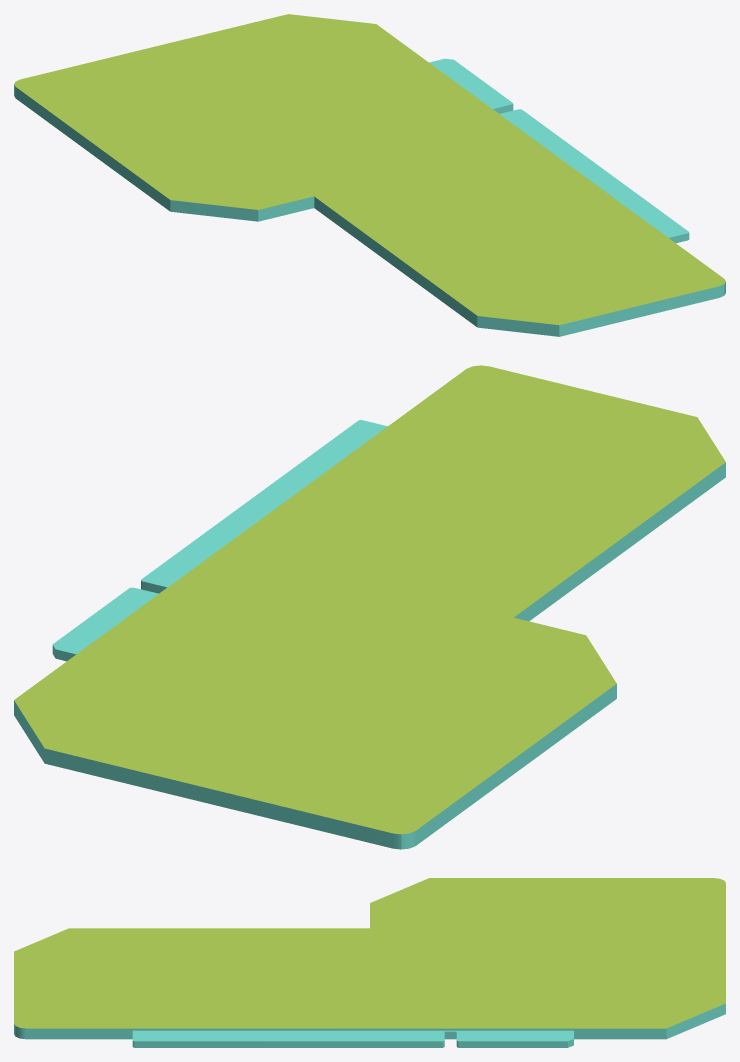
Rendered from PCI_Board_D.fbx.
3 views of the same model, one above another, from view 1: azimuth 30°, elevation 25°; view 2: azimuth 150°, elevation 25°; view 3: azimuth 270°, elevation 25° (orthographic). The views are drawn at different scales.
Parts seen in each view (by area): view 1: PCI_Board_D; view 2: PCI_Board_D; view 3: PCI_Board_D.
Part boxes in pixels (bbox=[...]): PCI_Board_D: bbox=[14, 14, 725, 336]; PCI_Board_D: bbox=[14, 365, 725, 849]; PCI_Board_D: bbox=[14, 878, 725, 1047].
Size of the model in its own units: 32.15 by 1 by 60.
